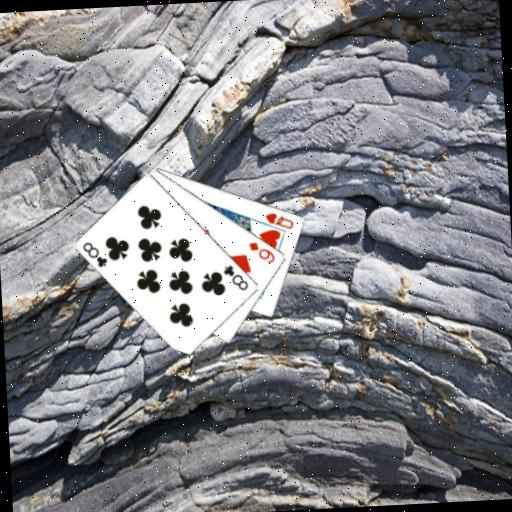6D: (246, 238, 277, 266)
8C: (220, 261, 250, 294), (80, 238, 109, 270)
QH: (262, 208, 296, 231)
